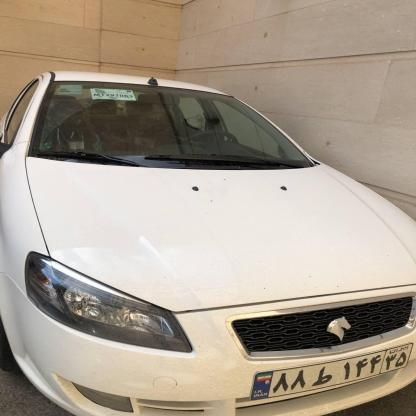Car: (0, 78, 416, 416)
